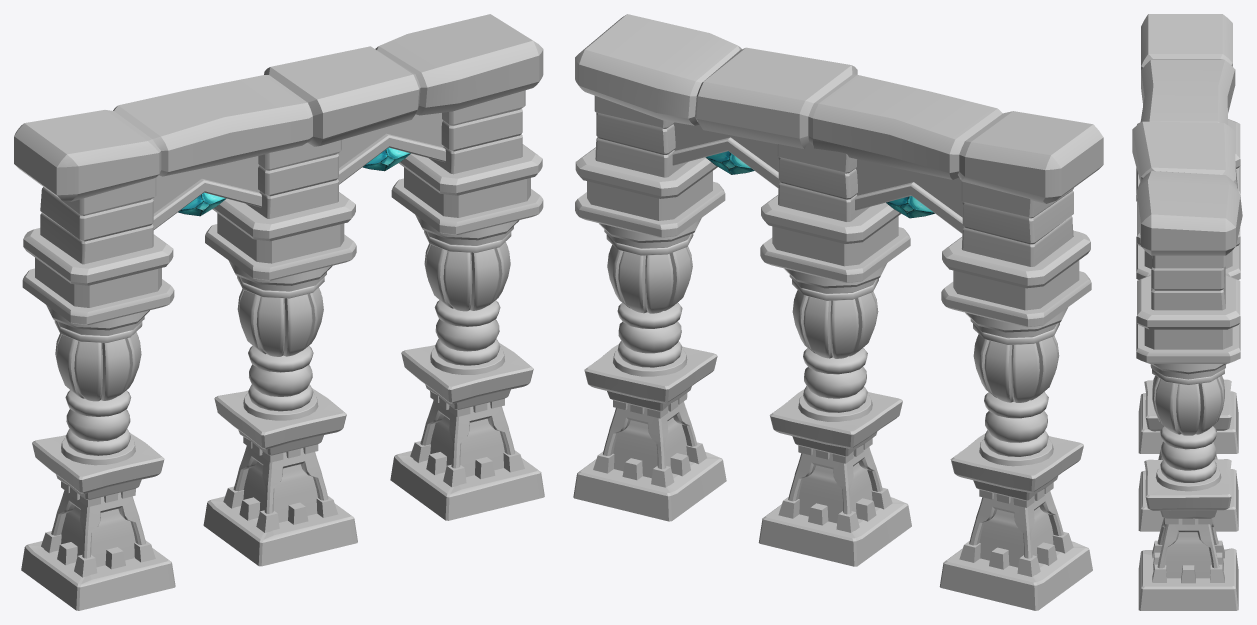
The model's file is Moonset_FBX_colonnade_3.fbx.
3 renders of one model, left to right at view 1: azimuth 30°, elevation 25°; view 2: azimuth 150°, elevation 25°; view 3: azimuth 270°, elevation 25°, orthographic. The views are drawn at different scales.
Visible parts, largest first — view 1: Colonade_03; view 2: Colonade_03; view 3: Colonade_03.
Boxes of the visible parts, box(x1,y1,x2,y2) form: Colonade_03: box(14, 14, 544, 610); Colonade_03: box(573, 14, 1103, 610); Colonade_03: box(1132, 14, 1242, 610).
Bounding box in the file's own units: 10.58 × 9.4 × 2.38.
